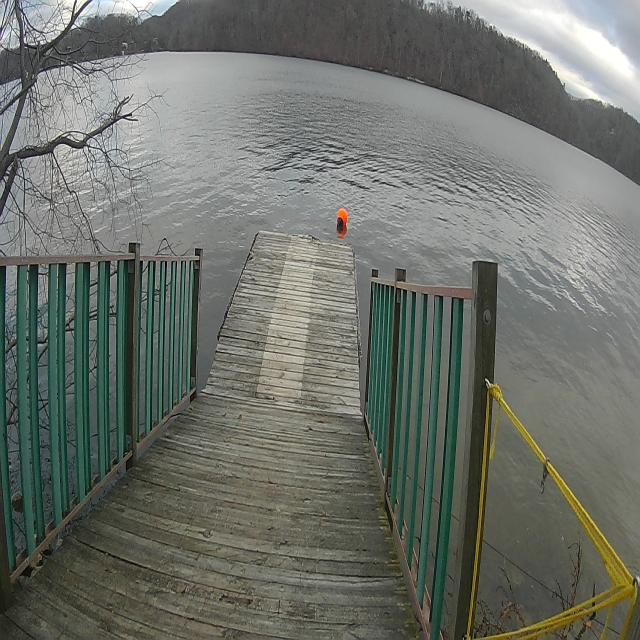Buoy: (337, 206, 348, 230)
